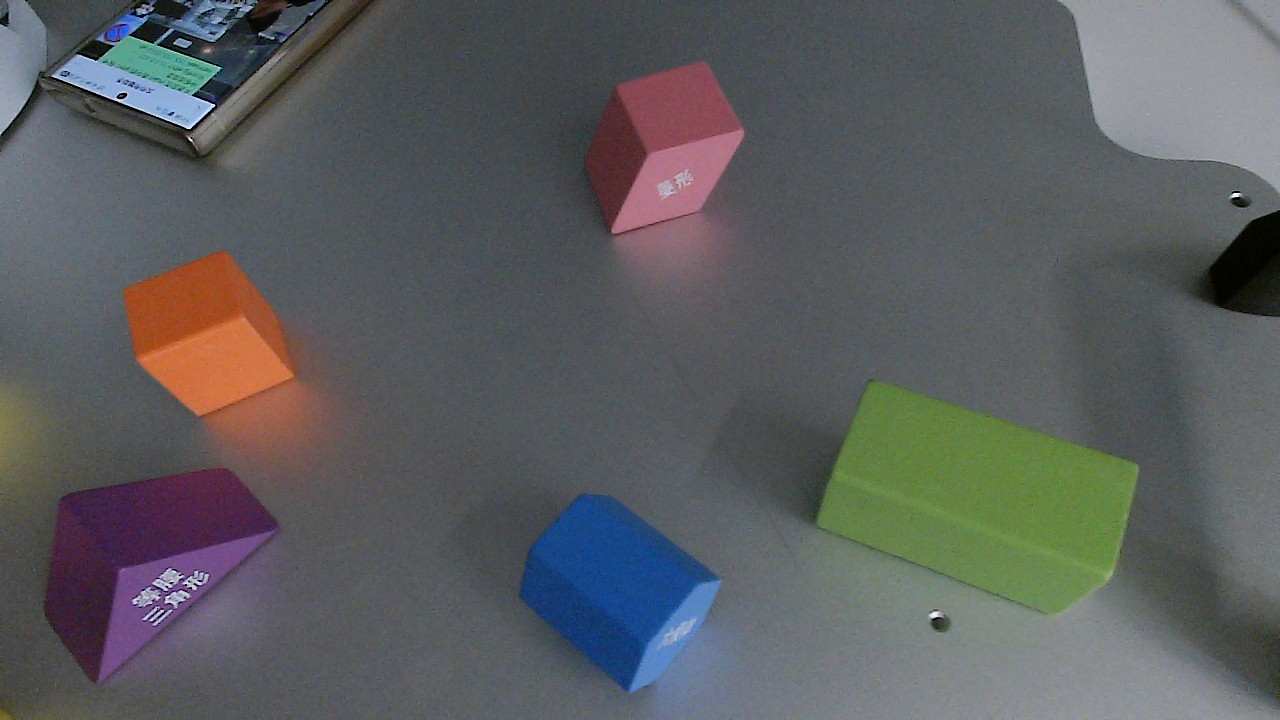diamond: (581, 56, 743, 241)
hexagon: (517, 488, 726, 690)
rectangle: (812, 373, 1140, 620)
square: (121, 244, 299, 431)
triangle: (44, 459, 277, 676)
